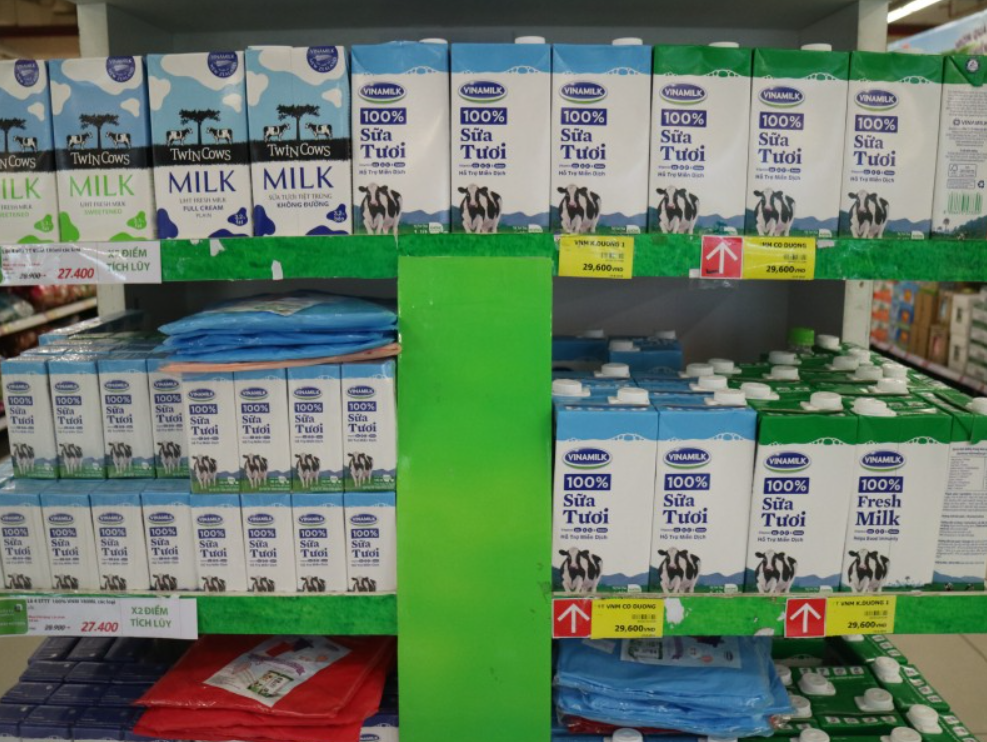twincowsmilk: (266, 140, 332, 162), (66, 147, 131, 169), (171, 147, 233, 166)
vinamilk: (558, 74, 608, 104), (456, 75, 507, 103), (355, 77, 406, 104), (855, 84, 899, 115), (764, 447, 812, 474), (656, 80, 707, 105), (565, 444, 612, 471), (665, 444, 710, 469), (862, 447, 905, 473), (757, 85, 805, 108), (344, 380, 377, 402), (293, 382, 325, 401), (238, 386, 267, 399)
